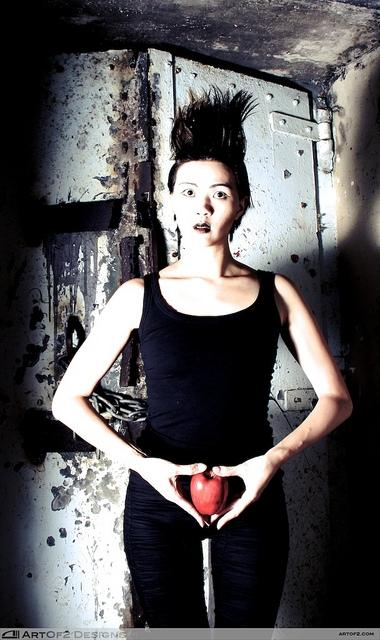apple: (190, 470, 229, 516)
